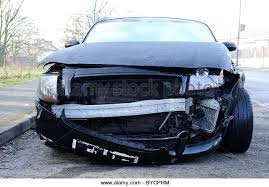Smashed: (35, 50, 242, 165)
